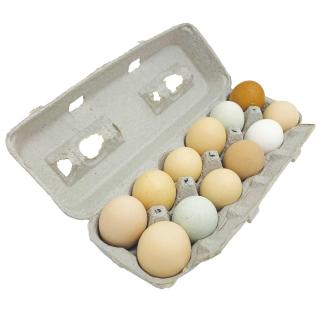Egg: (9, 14, 314, 287)
